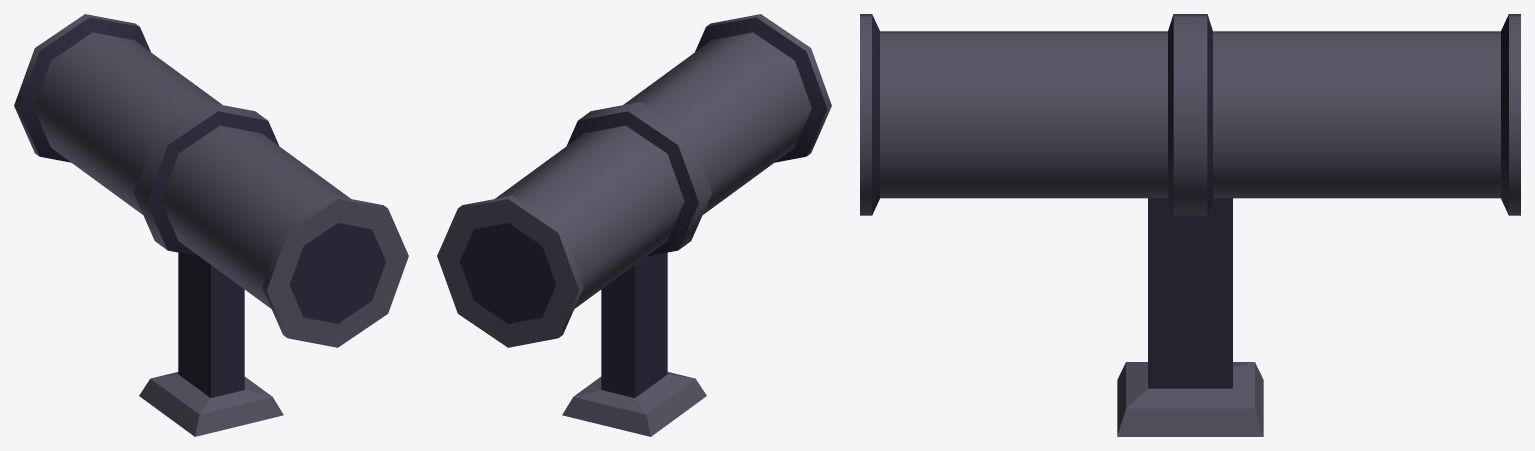
File: PipeStraight.fbx
3 renders of one model, left to right at view 1: azimuth 30°, elevation 25°; view 2: azimuth 150°, elevation 25°; view 3: azimuth 270°, elevation 25°, orthographic. The views are drawn at different scales.
Parts seen in each view (by area): view 1: PipeStraight; view 2: PipeStraight; view 3: PipeStraight.
Boxes of the visible parts, <box> form: PipeStraight: <box>14,14,408,436</box>; PipeStraight: <box>437,14,831,436</box>; PipeStraight: <box>860,14,1520,436</box>.
Bounding box in the file's own units: 32.49 × 65.29 × 100.
